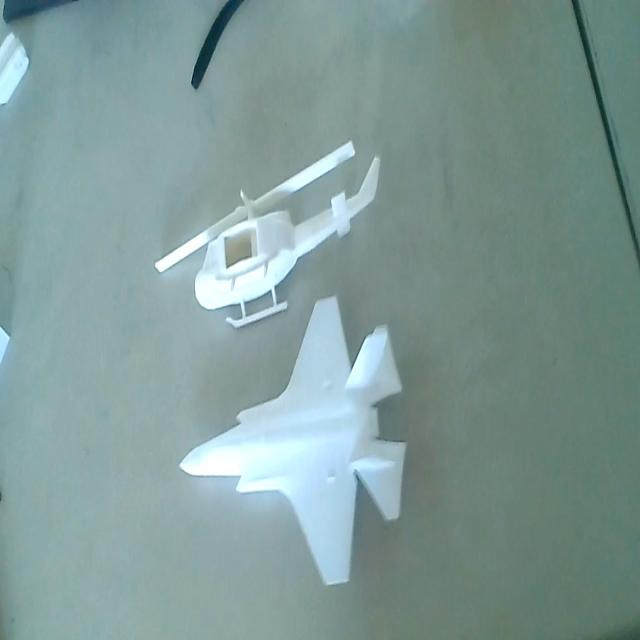Helicopter: (151, 132, 385, 339)
Jet: (180, 292, 414, 588)
